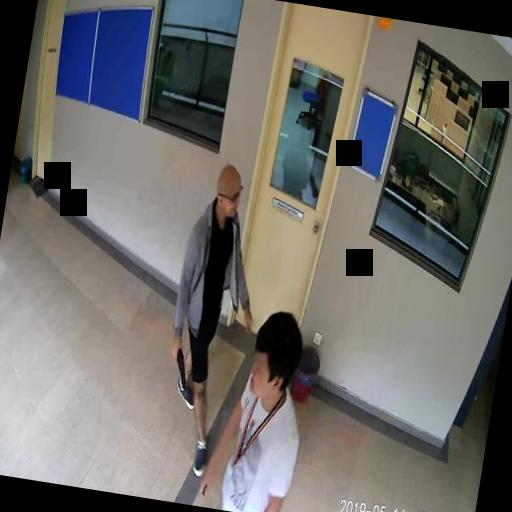Handgun: (166, 342, 190, 387)
